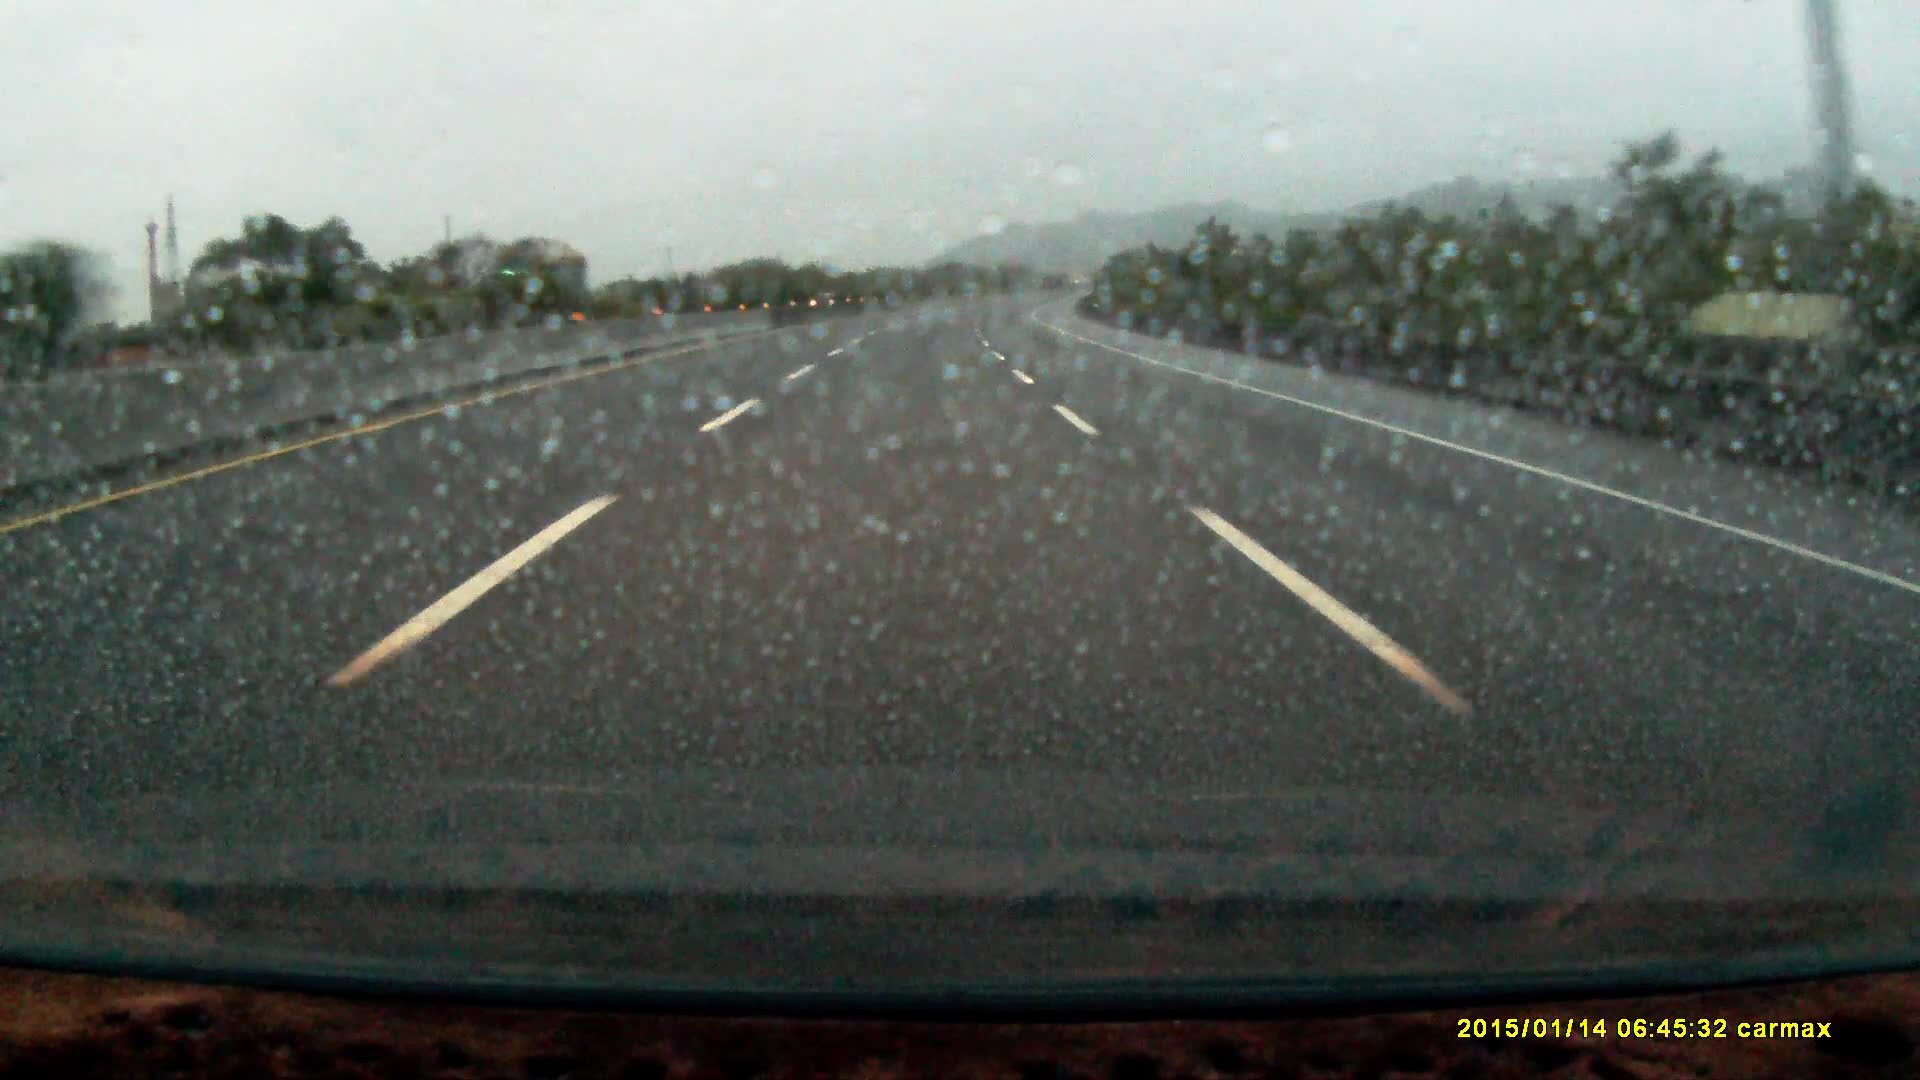vehicle: (480, 233, 589, 323)
